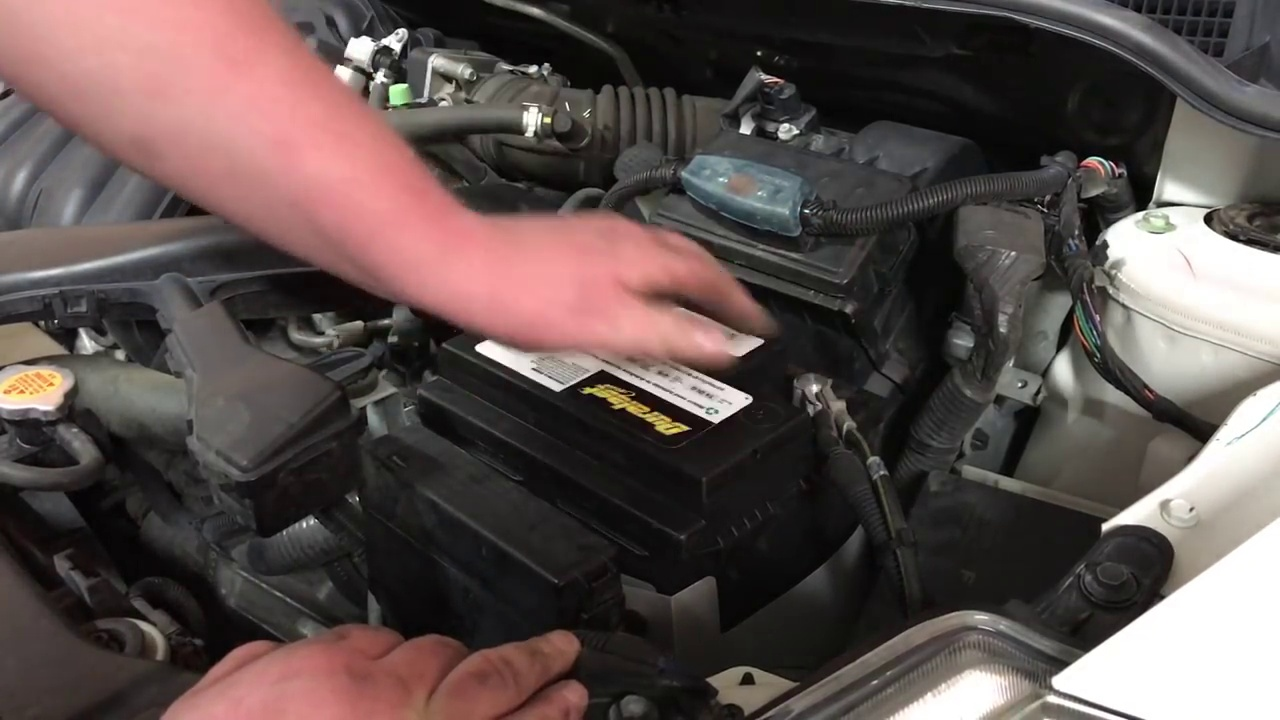battery: (433, 313, 849, 476)
